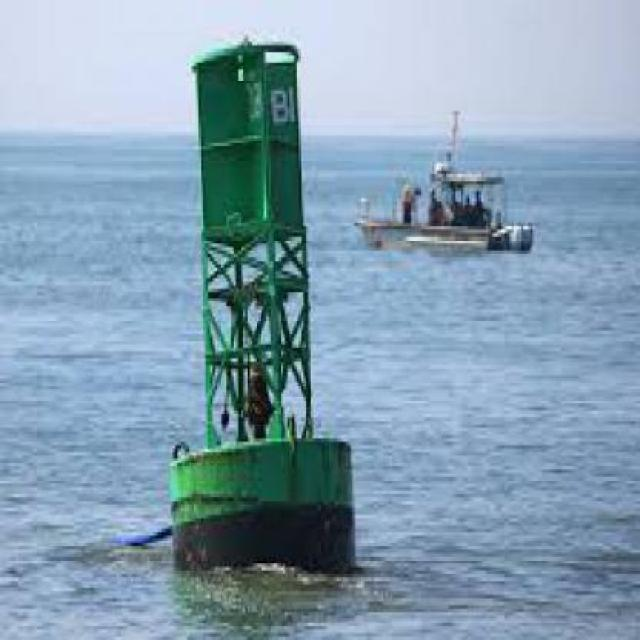buoy: (148, 18, 372, 596)
